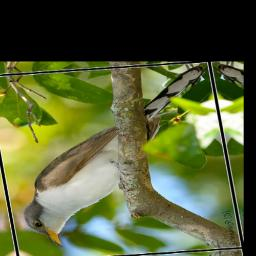Cuckoo: (0, 63, 238, 254)
